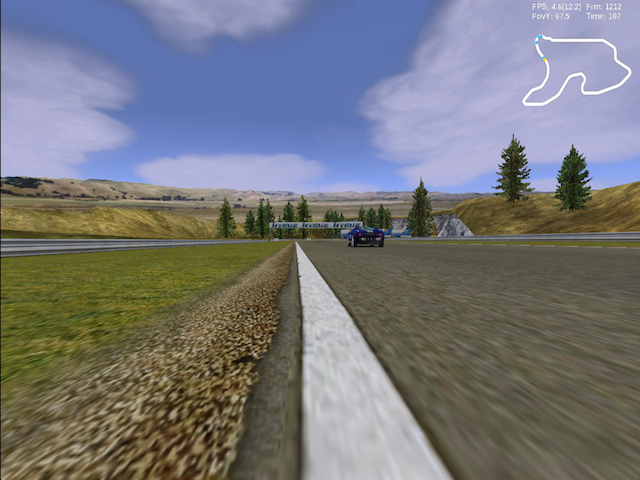FMC_GT4: (346, 228, 385, 248)
